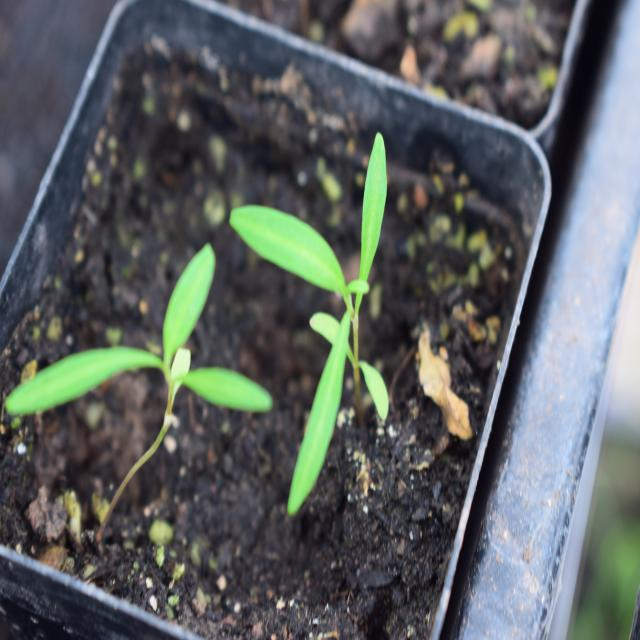white_smart_weed: (241, 130, 444, 502)
